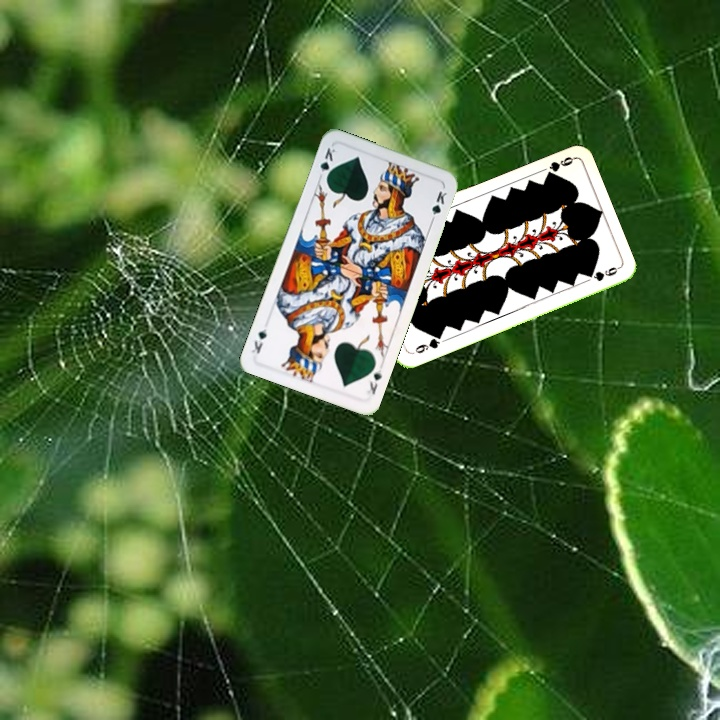G9: (408, 331, 444, 357), (542, 152, 576, 178)
GK: (316, 143, 339, 183), (363, 365, 384, 397)
